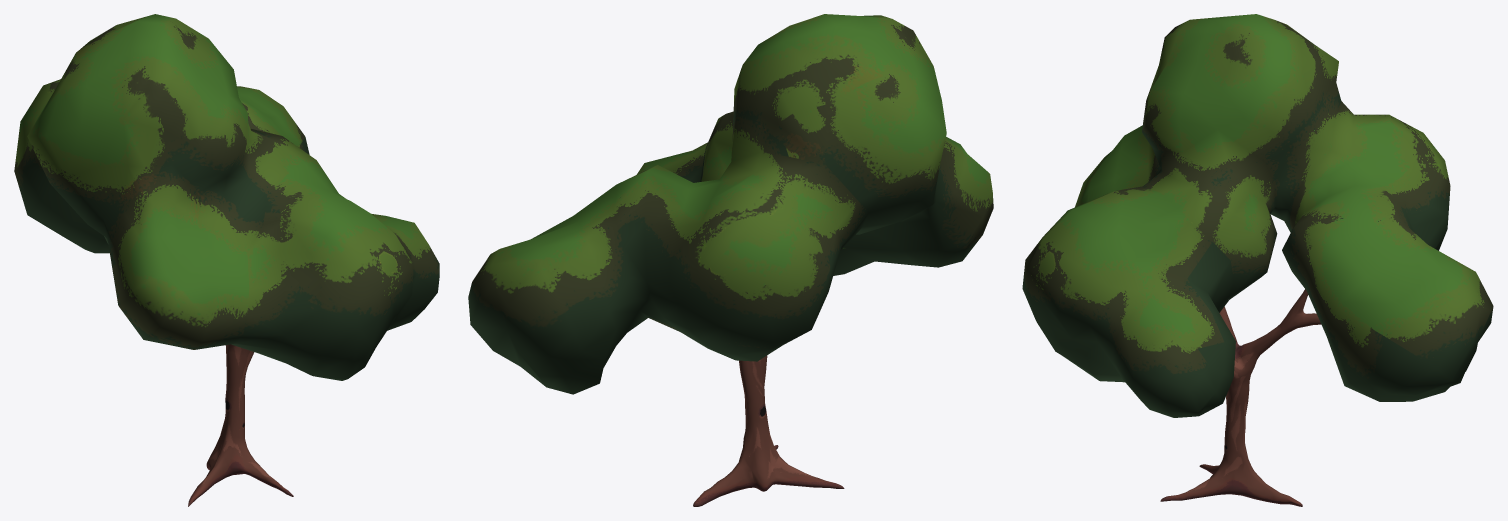
The model's file is TreeSmall(DETACHED).fbx.
3 views of the same model, side by side, from view 1: azimuth 30°, elevation 25°; view 2: azimuth 150°, elevation 25°; view 3: azimuth 270°, elevation 25° (orthographic). The views are drawn at different scales.
Parts seen in each view (by area): view 1: Retopo_Mball.001, Retopo_Mball.008; view 2: Retopo_Mball.001, Retopo_Mball.008; view 3: Retopo_Mball.001, Retopo_Mball.008.
Part boxes in pixels (x1,y1,x2,y2): Retopo_Mball.001: (14,14,439,380); Retopo_Mball.008: (188,344,293,506); Retopo_Mball.001: (468,14,993,394); Retopo_Mball.008: (693,355,844,506); Retopo_Mball.001: (1022,14,1493,417); Retopo_Mball.008: (1160,289,1321,506).
Size of the model in its own units: 760 by 958 by 925.
